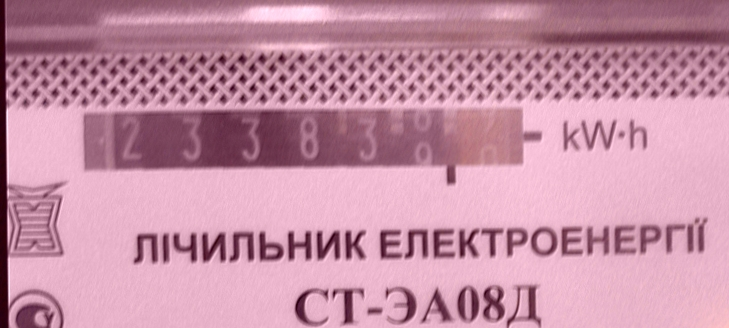0: (481, 143, 503, 169)
2: (122, 116, 147, 163)
3: (180, 114, 209, 164), (238, 115, 267, 164), (358, 117, 382, 163)
8: (298, 116, 325, 162), (414, 108, 437, 136)
9: (480, 106, 502, 136), (415, 140, 436, 170)
screen: (74, 98, 548, 193)
